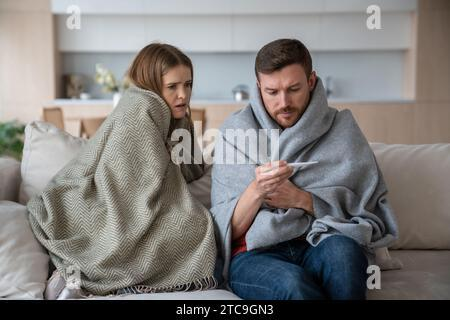blanket: (25, 85, 217, 295), (210, 75, 405, 273)
trousers: (226, 234, 367, 300)
